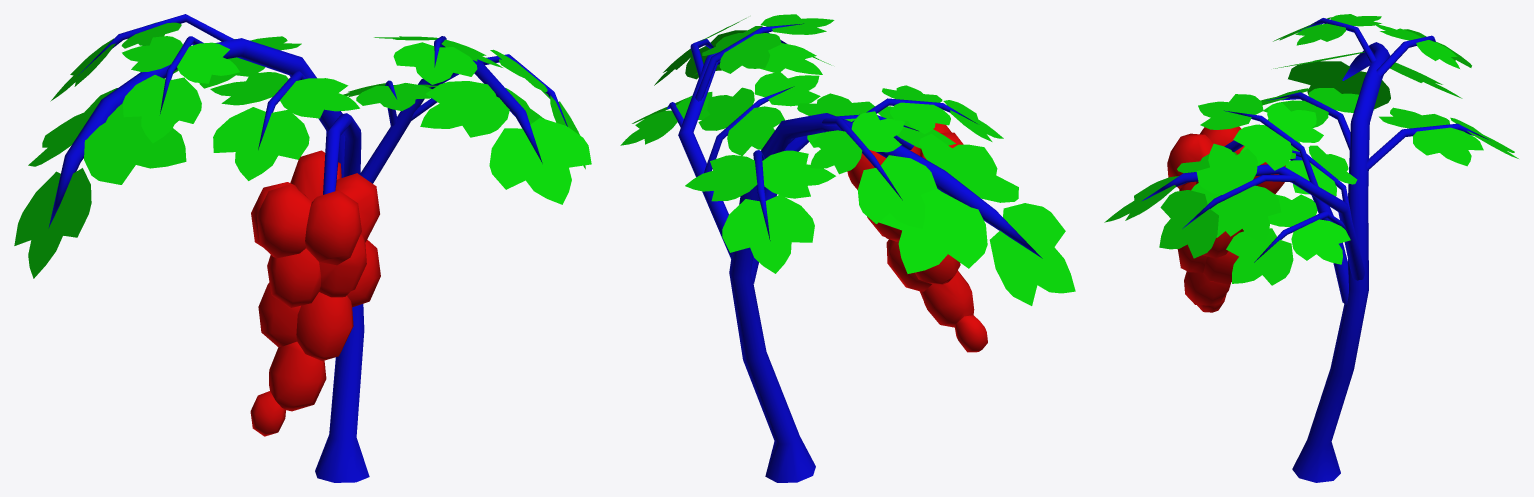
The model's file is Grapes_4.fbx.
3 views of the same model, side by side, from view 1: azimuth 30°, elevation 25°; view 2: azimuth 150°, elevation 25°; view 3: azimuth 270°, elevation 25° (orthographic). The views are drawn at different scales.
Parts seen in each view (by area): view 1: BSTC_Grapes_4; view 2: BSTC_Grapes_4; view 3: BSTC_Grapes_4.
Part boxes in pixels (box(x1,y1,x2,y2)): BSTC_Grapes_4: box(14, 14, 591, 482); BSTC_Grapes_4: box(620, 14, 1075, 482); BSTC_Grapes_4: box(1104, 14, 1518, 482).
Bounding box in the file's own units: 92.2 × 79.36 × 76.25.
